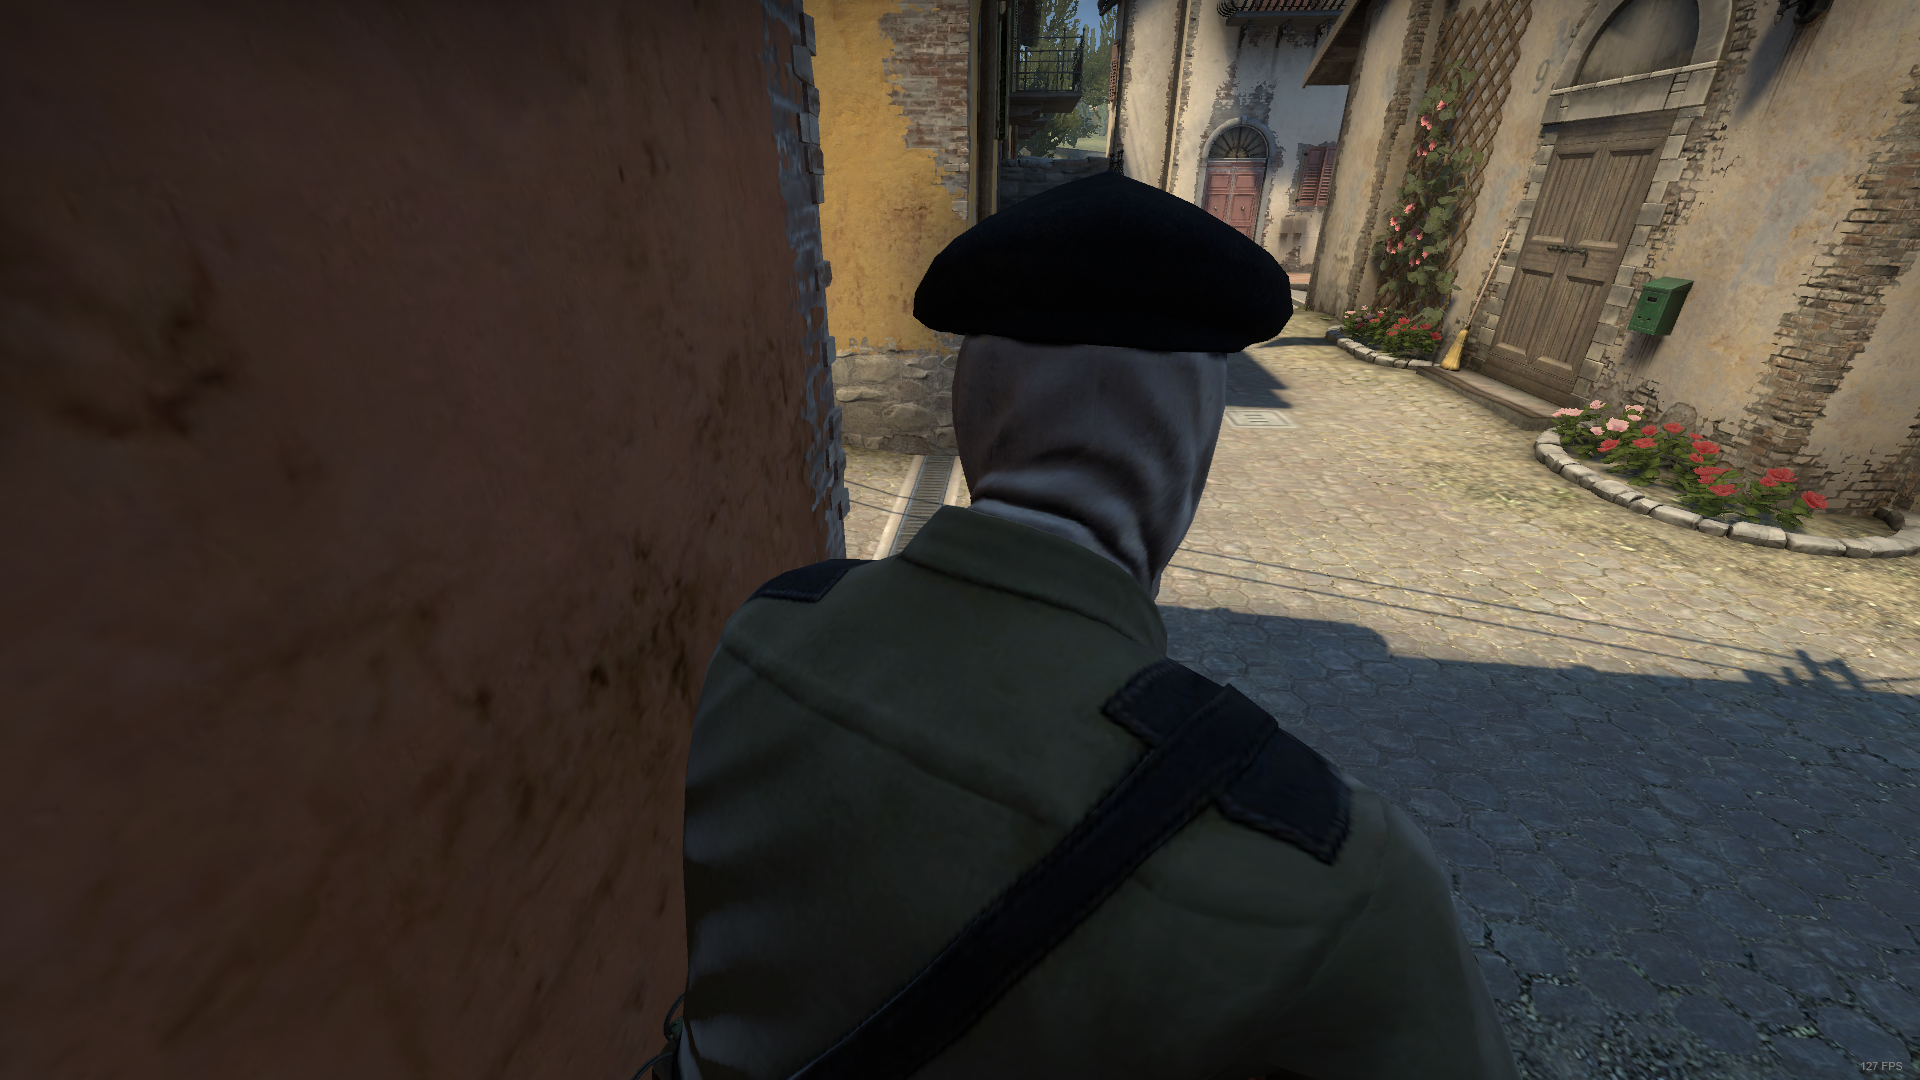t: (671, 174, 1516, 1080)
